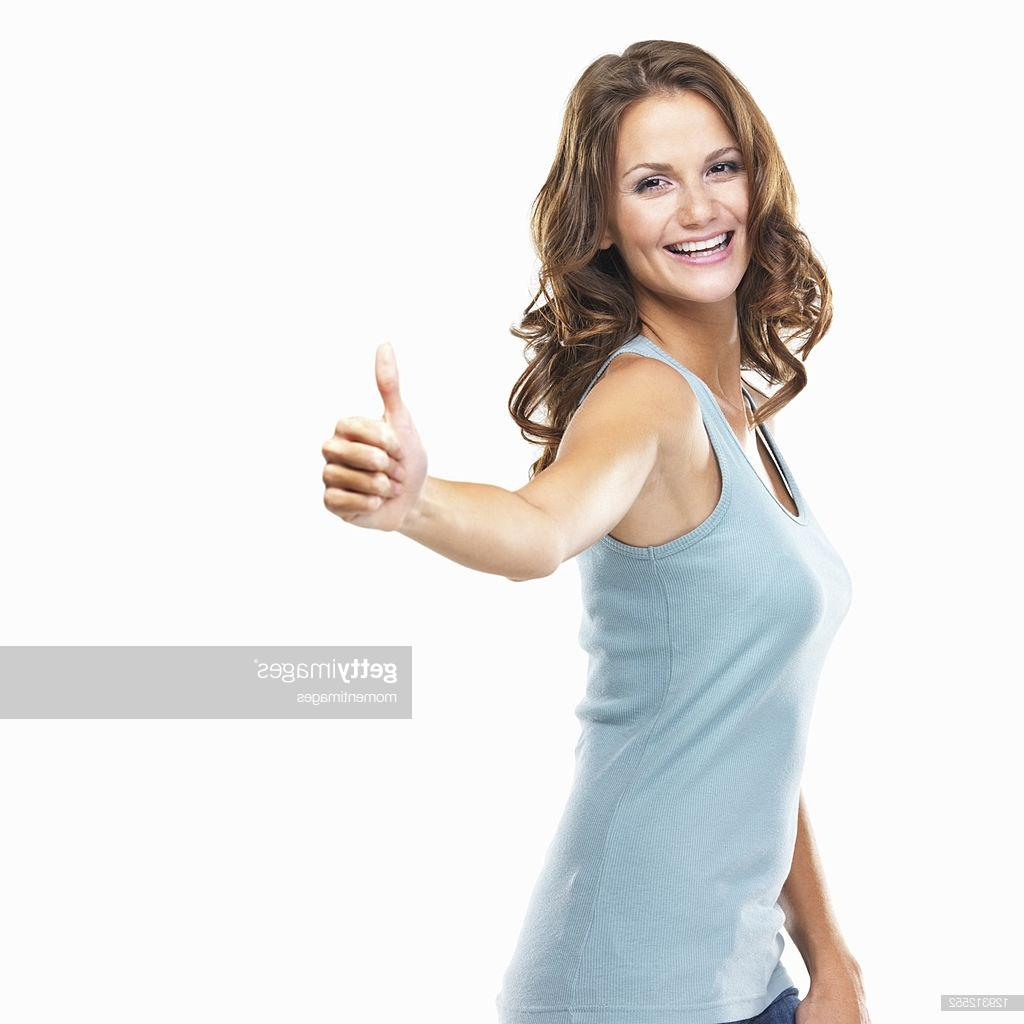thumbsup: (321, 340, 411, 517)
